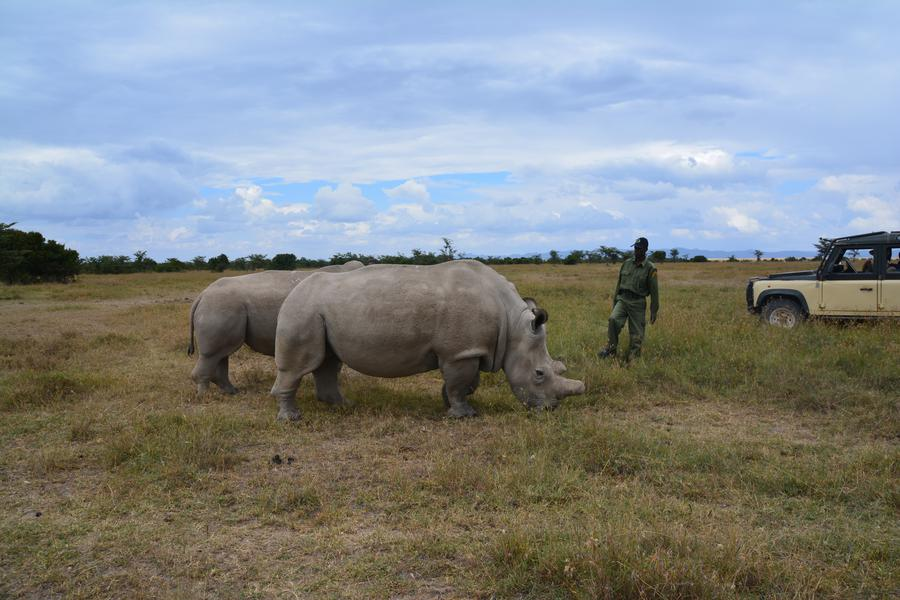rhino: (284, 266, 565, 415), (195, 262, 288, 396)
